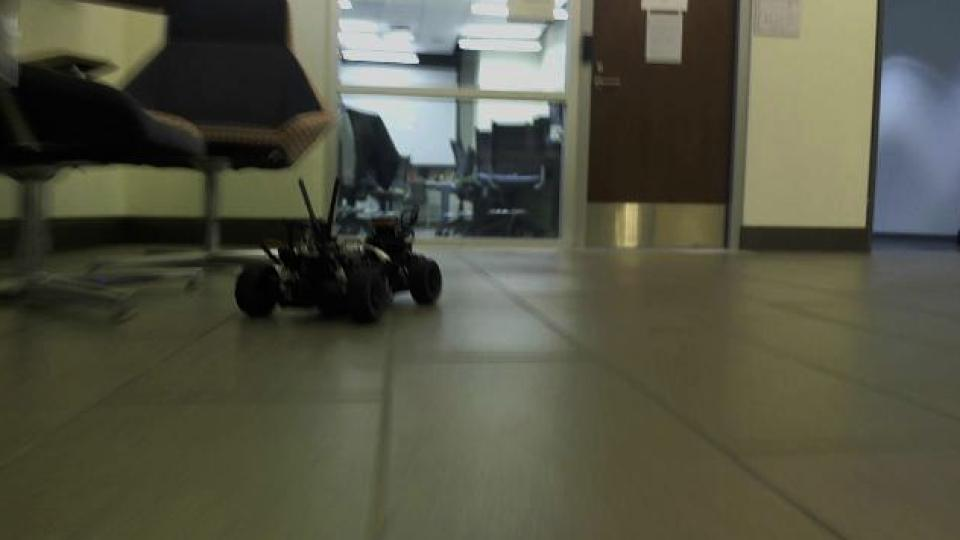car: (232, 175, 446, 326)
